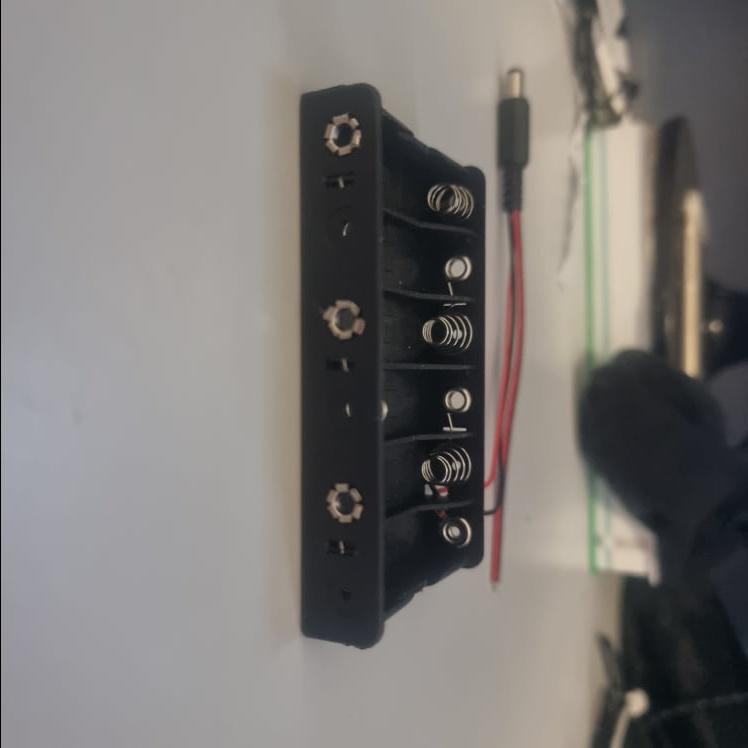BATTERY BOX: (298, 81, 484, 649)
